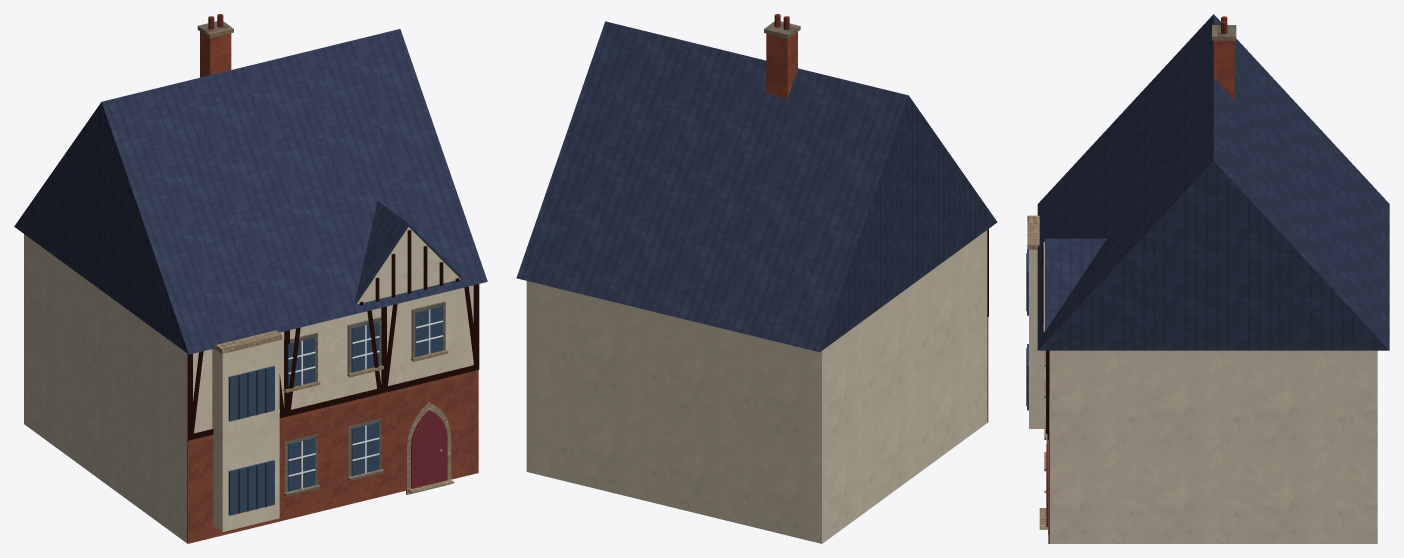
File: tudor_w10_2.gltf
3 views of the same model, side by side, from view 1: azimuth 30°, elevation 25°; view 2: azimuth 150°, elevation 25°; view 3: azimuth 270°, elevation 25° (orthographic).
Parts seen in each view (by area): view 1: tudor_w10_2; view 2: tudor_w10_2; view 3: tudor_w10_2.
Part boxes in pixels (x1,y1,x2,y2): tudor_w10_2: (14,14,487,543); tudor_w10_2: (516,14,997,543); tudor_w10_2: (1026,14,1389,543).
Size of what is drawn, in the model's own units: 9.96 by 14.01 by 10.43.
8 materials, 5 textured.
